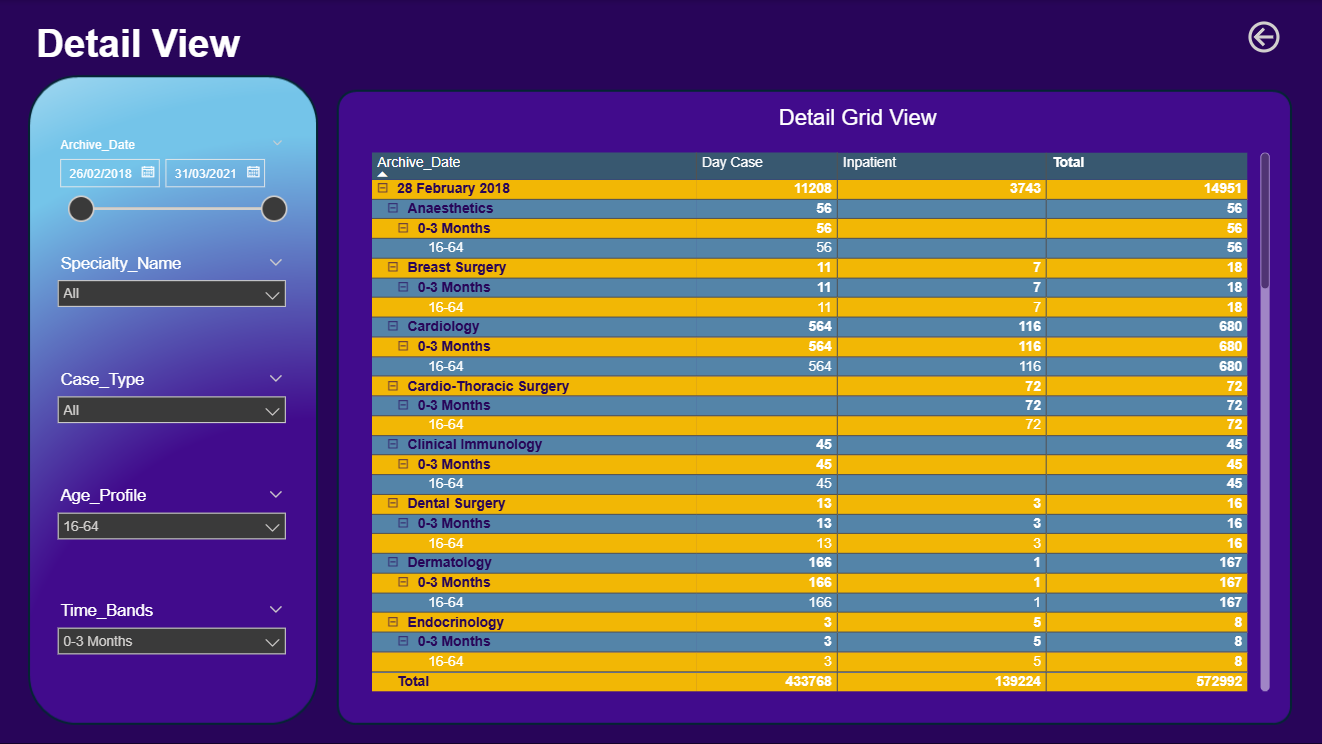

What the dashboard file says about the page in this screenshot:
{"tool":"powerbi","page":{"name":"Detail View","canvas":[1280,720],"ordinal":1},"visuals":[{"type":"textbox","box":[32,16,224,80],"z":0},{"type":"slicer","fields":{"Values":["AllData.Archive_Date"]},"box":[48,128,240,96],"z":1000},{"type":"slicer","fields":{"Values":["AllData.Case_Type"]},"box":[48,352,240,96],"z":2000},{"type":"slicer","fields":{"Values":["AllData.Specialty_Name"]},"box":[48,240,240,96],"z":3000},{"type":"slicer","fields":{"Values":["AllData.Age_Profile"]},"box":[48,464,240,96],"z":4000},{"type":"slicer","fields":{"Values":["AllData.Time_Bands"]},"box":[48,576,240,96],"z":5000},{"type":"pivotTable","fields":{"Rows":["AllData.Archive_Date","AllData.Specialty_Name","AllData.Time_Bands","AllData.Age_Profile"],"Columns":["AllData.Case_Type"],"Values":["Sum(AllData.Total)"]},"box":[357.5,142.5,876.2,530],"z":6000},{"type":"textbox","box":[655,96.2,351.2,46.2],"z":6001},{"type":"actionButton","box":[1202.5,16.2,45,40],"z":6002}]}

Visuals, with their boxes in screenshot pixels (x1, y1, x2, y2), scaled from the page's 1280x720 canvas onto the 1322x744 screenshot:
textbox: (left=33, top=17, right=264, bottom=99)
slicer - AllData.Archive_Date: (left=50, top=132, right=297, bottom=231)
slicer - AllData.Case_Type: (left=50, top=364, right=297, bottom=463)
slicer - AllData.Specialty_Name: (left=50, top=248, right=297, bottom=347)
slicer - AllData.Age_Profile: (left=50, top=479, right=297, bottom=579)
slicer - AllData.Time_Bands: (left=50, top=595, right=297, bottom=694)
pivotTable - AllData.Archive_Date x AllData.Specialty_Name: (left=369, top=147, right=1274, bottom=695)
textbox: (left=676, top=99, right=1039, bottom=147)
actionButton: (left=1242, top=17, right=1288, bottom=58)
